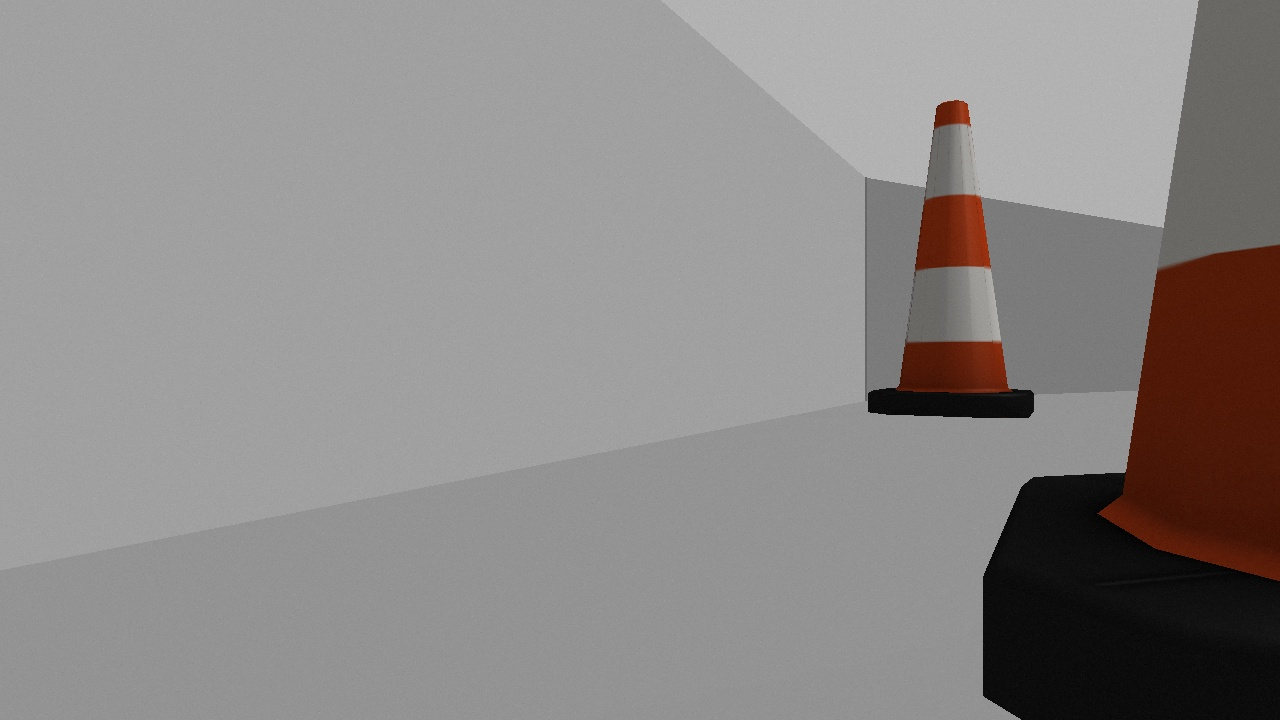barricade: (851, 91, 1057, 452)
